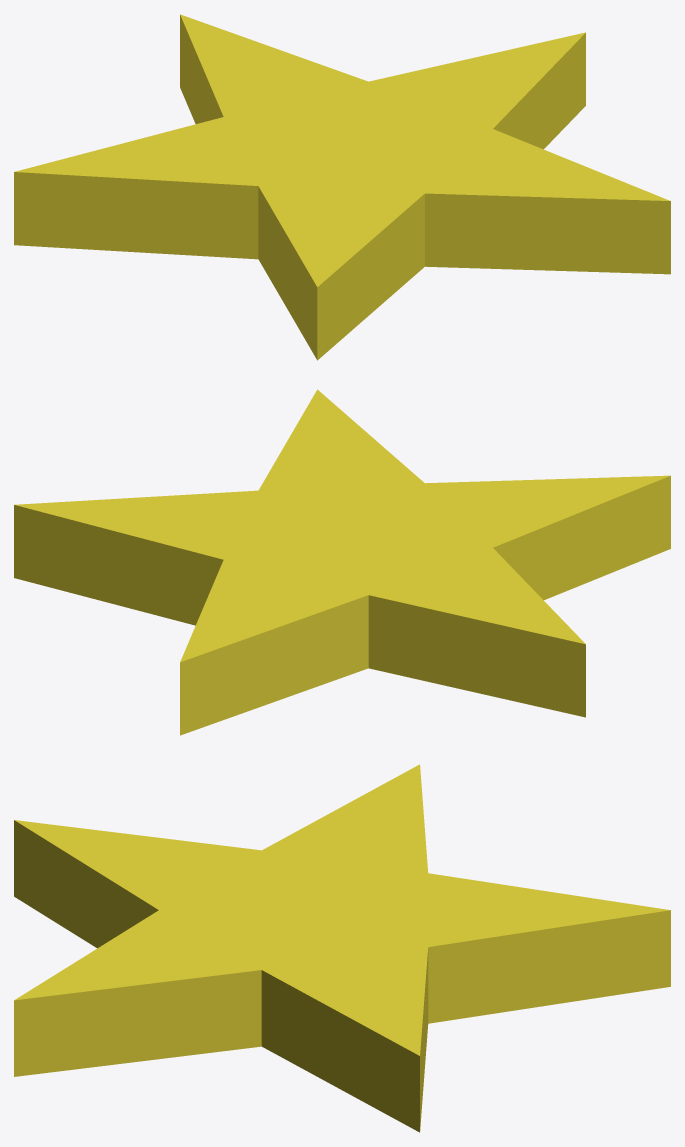
The model's file is hosi.fbx.
The picture shows the model from 3 angles, top to bottom: view 1: azimuth 30°, elevation 25°; view 2: azimuth 150°, elevation 25°; view 3: azimuth 270°, elevation 25°; orthographic projection. The views are drawn at different scales.
Visible parts, largest first — view 1: 円; view 2: 円; view 3: 円.
Part boxes in pixels (bbox=[...]): 円: bbox=[14, 14, 670, 360]; 円: bbox=[14, 389, 670, 735]; 円: bbox=[14, 764, 670, 1132].
Size of the model in its own units: 190 by 23.27 by 181.
